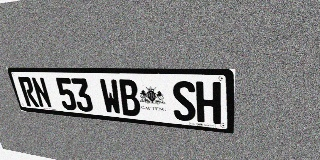3: (71, 78, 94, 112)
5: (55, 78, 78, 111)
B: (117, 79, 141, 117)
H: (196, 81, 221, 124)
N: (30, 77, 53, 108)
R: (17, 77, 39, 107)
S: (171, 81, 196, 122)
W: (99, 79, 123, 115)
